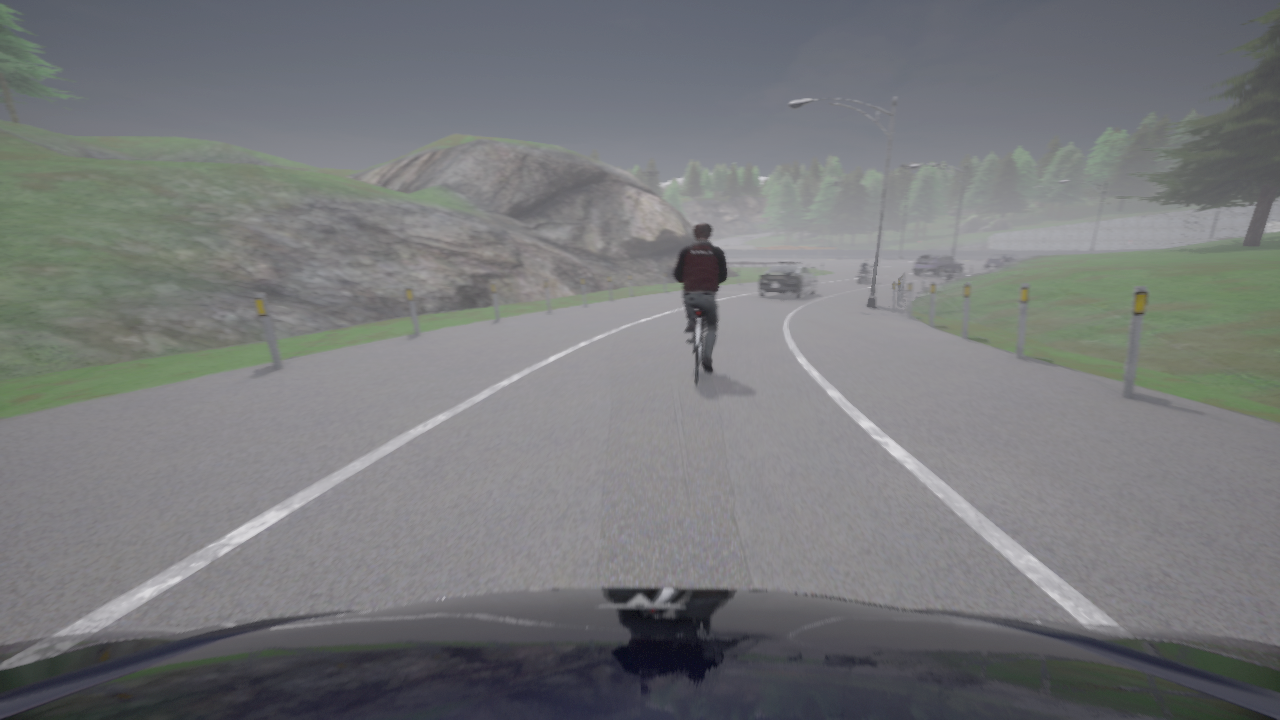cyclist: (0, 588, 1279, 719), (758, 261, 817, 299), (687, 309, 712, 384), (913, 255, 963, 276), (985, 254, 1019, 270), (858, 265, 873, 283)
